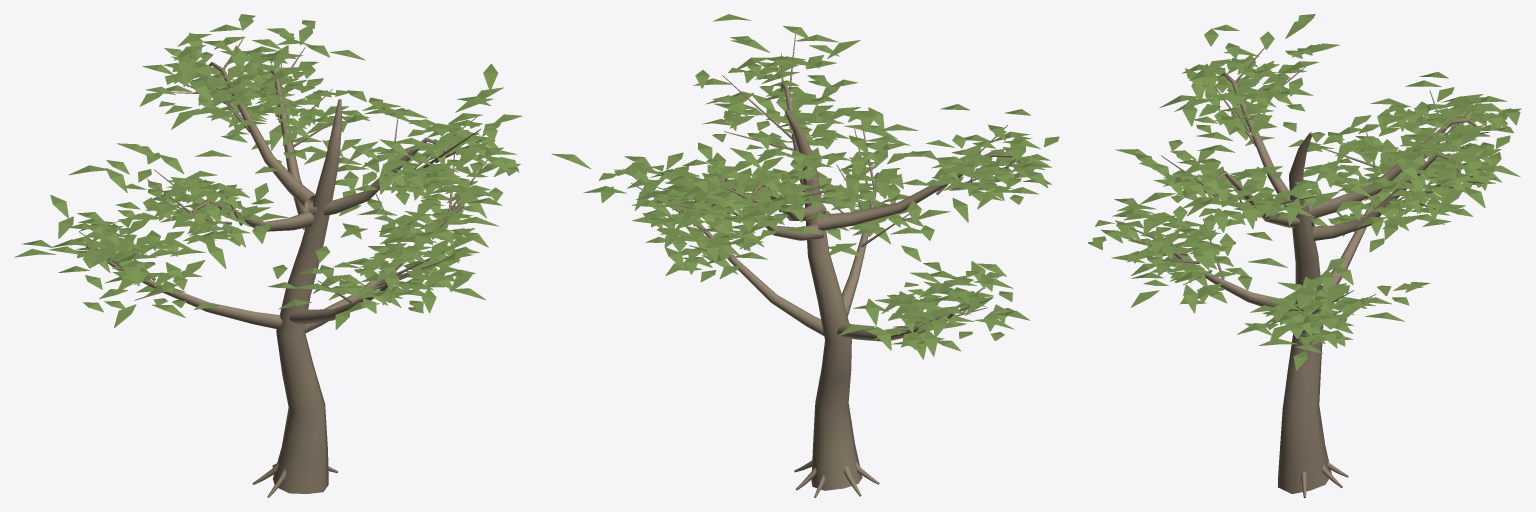
File: canopy_broad_lod1.glb
The picture shows the model from 3 angles, left to right: view 1: azimuth 30°, elevation 25°; view 2: azimuth 150°, elevation 25°; view 3: azimuth 270°, elevation 25°; orthographic projection. The views are drawn at different scales.
Visible parts, largest first — view 1: Leaves, Bark; view 2: Leaves, Bark; view 3: Leaves, Bark.
Part boxes in pixels (x1,y1,x2,y2): Leaves: (14,14,522,329); Bark: (74,38,491,497); Leaves: (551,14,1059,359); Bark: (623,34,1022,497); Leaves: (1088,14,1521,370); Bark: (1119,41,1496,497).
Size of the model in its own units: 12.87 by 10.29 by 9.95.
